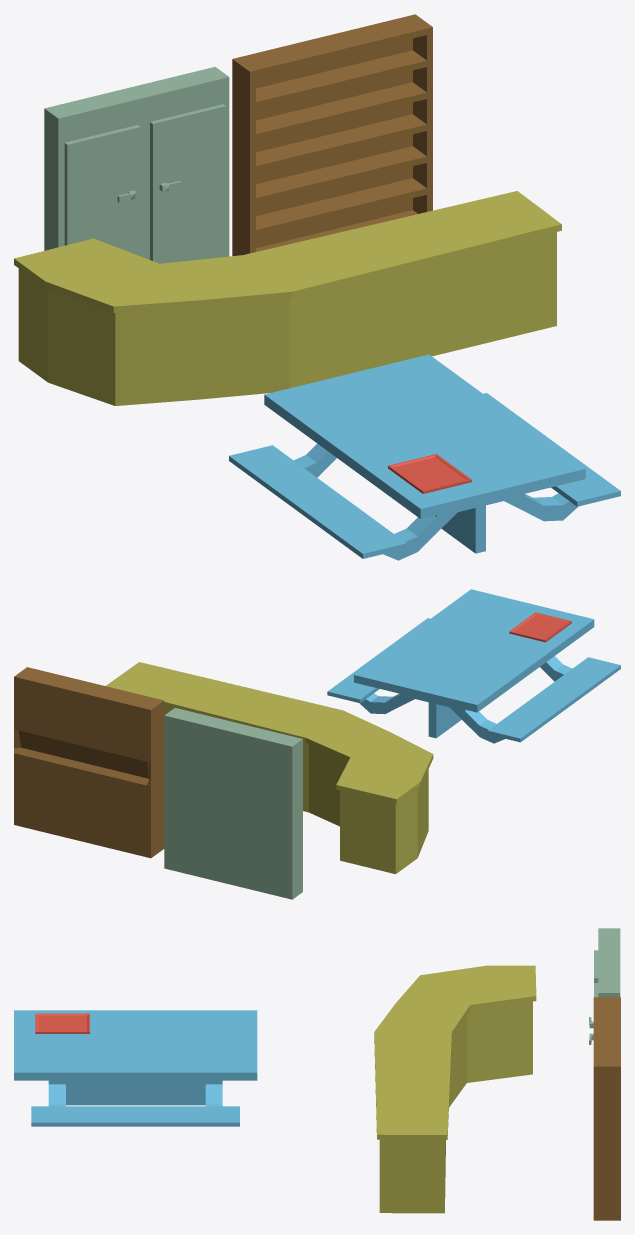
File: CafeteriaProps_SeamMarked.fbx
3 views of the same model, one above another, from view 1: azimuth 30°, elevation 25°; view 2: azimuth 150°, elevation 25°; view 3: azimuth 270°, elevation 25° (orthographic). The views are drawn at different scales.
Visible parts, largest first — view 1: Food_Bar, Food_Shelves, Cafeteria_Table, Fridge, Food_Tray; view 2: Food_Shelves, Food_Bar, Fridge, Cafeteria_Table, Food_Tray; view 3: Food_Bar, Cafeteria_Table, Food_Shelves, Fridge, Food_Tray.
Boxes of the visible parts, x1,y1,x2,y2 form: Food_Bar: [14, 191, 561, 405]; Food_Shelves: [232, 14, 432, 255]; Cafeteria_Table: [229, 354, 620, 560]; Fridge: [44, 67, 229, 263]; Food_Tray: [388, 454, 471, 493]; Food_Shelves: [14, 667, 164, 858]; Food_Bar: [106, 662, 433, 874]; Fridge: [164, 708, 302, 899]; Cafeteria_Table: [327, 589, 620, 743]; Food_Tray: [509, 612, 571, 642]; Food_Bar: [374, 965, 536, 1213]; Cafeteria_Table: [14, 1010, 257, 1126]; Food_Shelves: [593, 997, 620, 1220]; Fridge: [589, 928, 620, 1044]; Food_Tray: [35, 1013, 89, 1033].
Bounding box in the file's own units: 18.69 × 8.13 × 27.69.
